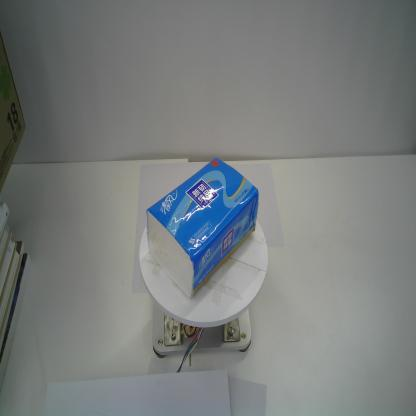Tissue: (146, 157, 260, 299)
